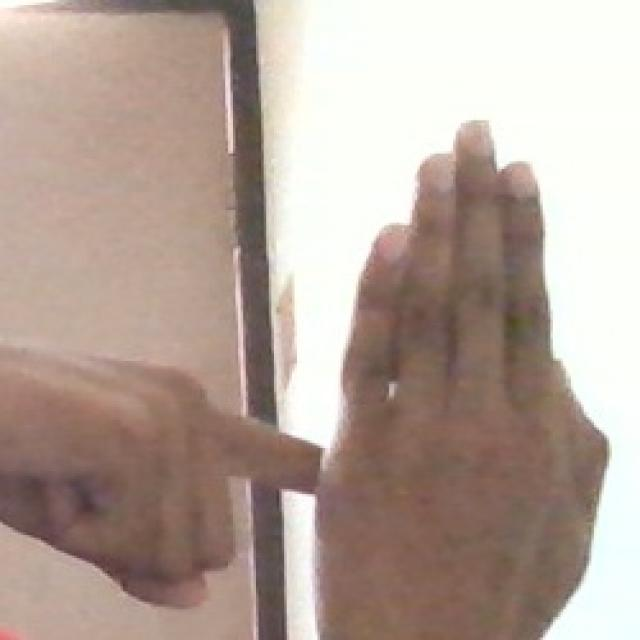Alphabet-R: (0, 89, 614, 640)
